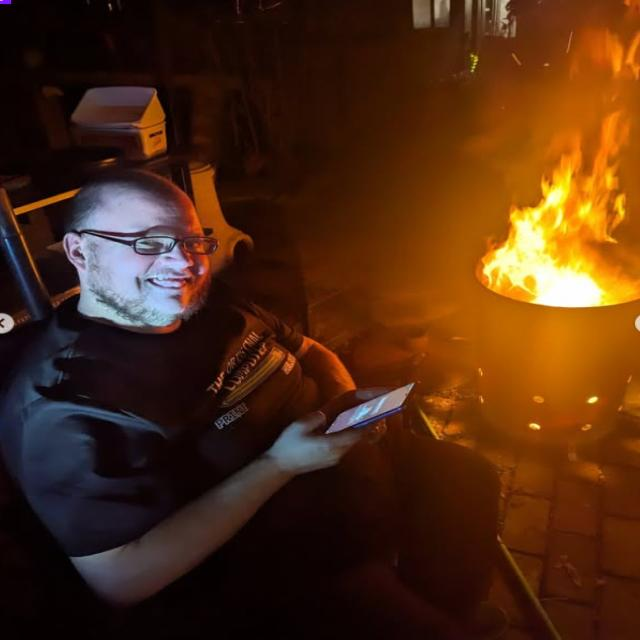fire: (482, 110, 640, 307)
